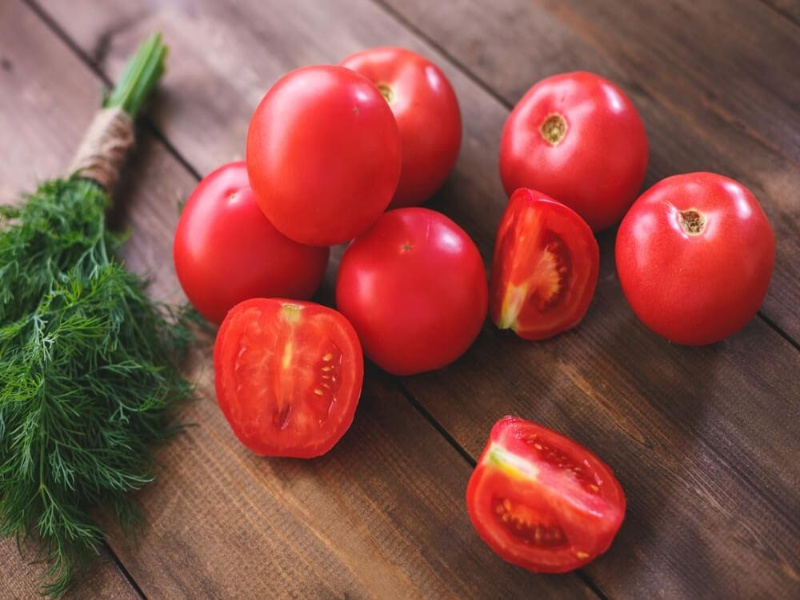Tomate: (615, 170, 777, 346), (247, 65, 401, 247), (174, 160, 332, 330), (337, 205, 490, 375), (467, 415, 627, 574), (499, 70, 651, 236), (214, 297, 363, 461), (340, 49, 464, 206), (487, 190, 602, 343)
